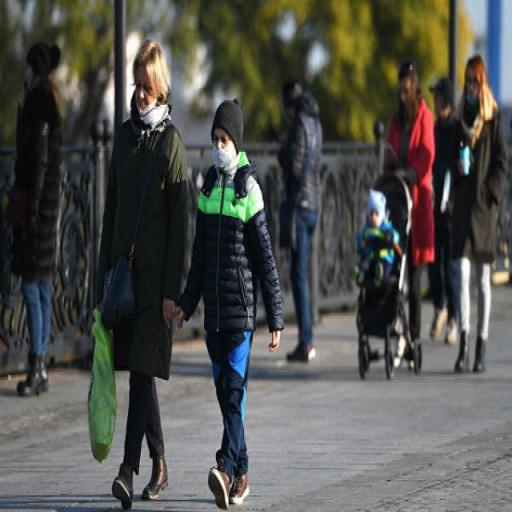person: (178, 94, 286, 512), (96, 34, 190, 512), (7, 39, 64, 401), (452, 57, 509, 375), (387, 64, 436, 363), (283, 82, 324, 364), (431, 72, 460, 344)
